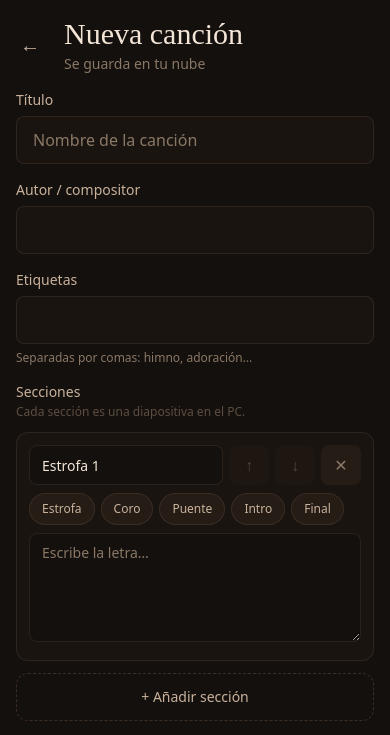
Scenario: 8. añadir sección: aparece con label autonumerado
Click the button "+ Añadir sección" at x=195, y=697, box [16, 673, 374, 721]
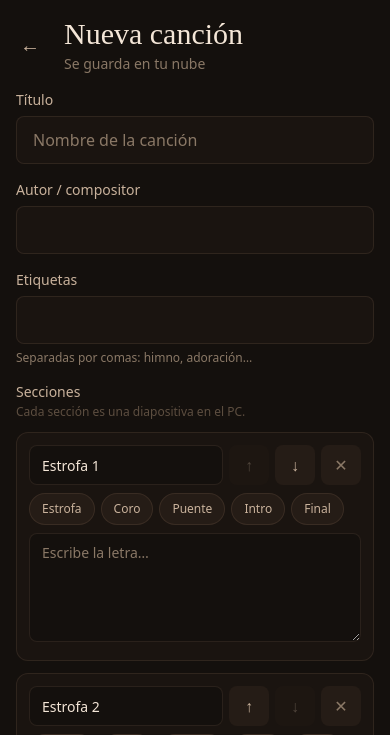
Result: the field named "Etiqueta de la sección 2" holds "Estrofa 2" at [29, 686, 223, 726]
